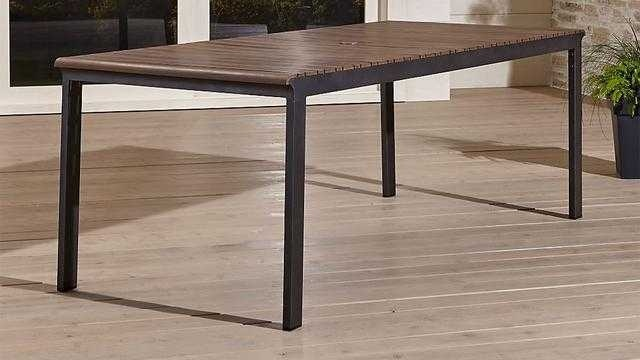obstacle: (55, 21, 582, 329)
